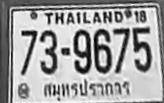3: (39, 29, 57, 73)
5: (132, 26, 151, 71)
6: (93, 28, 111, 72)
7: (112, 27, 130, 72), (20, 30, 37, 74)
9: (73, 28, 91, 74)
SPK: (40, 78, 132, 102)
